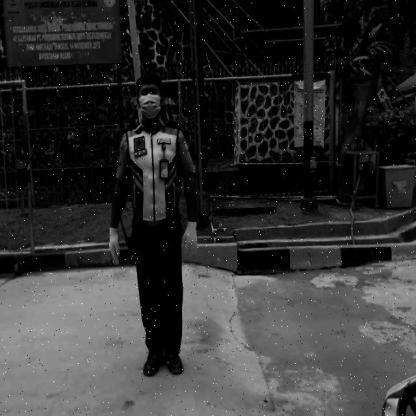boots: (142, 348, 165, 379), (164, 352, 186, 378)
gloves: (181, 219, 201, 260), (107, 225, 122, 269)
helmet: (377, 366, 415, 416)
mask: (140, 97, 161, 118)
